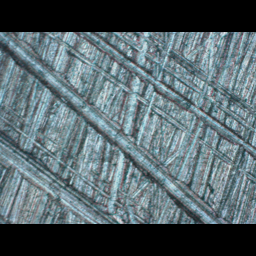d: (4, 32, 256, 219)
